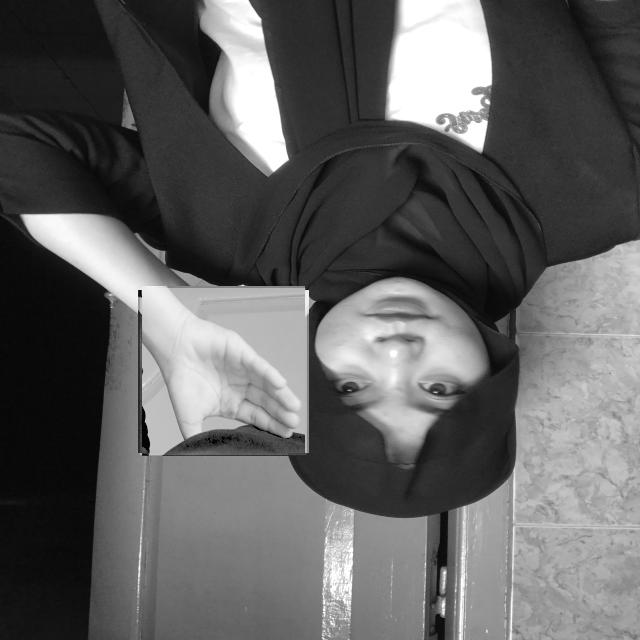mendengar: (140, 288, 307, 455)
